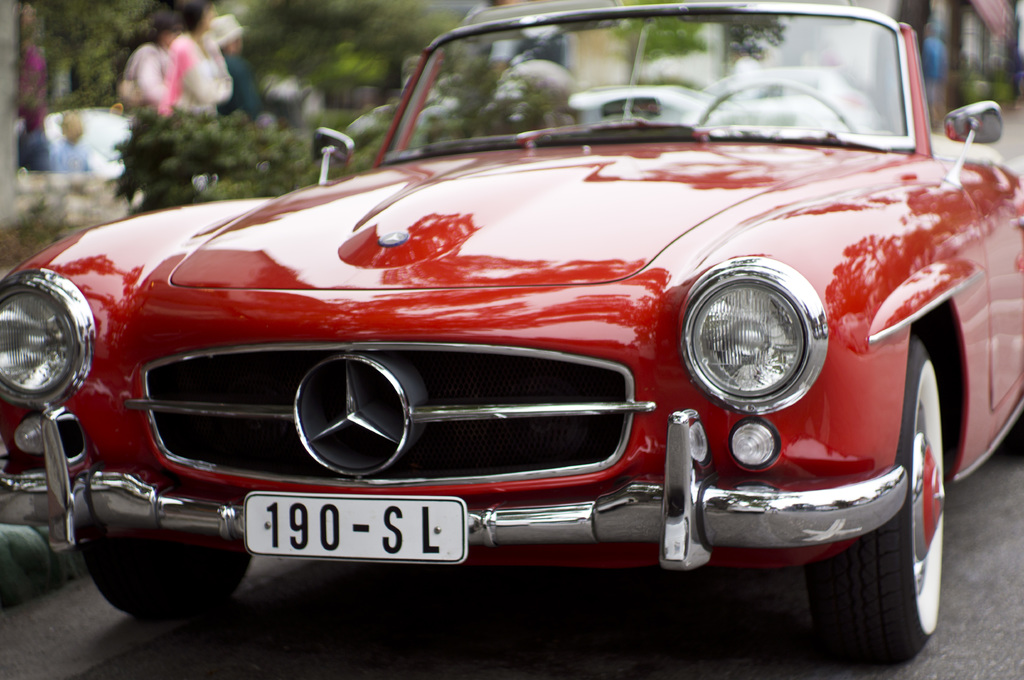Tree: (0, 0, 468, 215)
